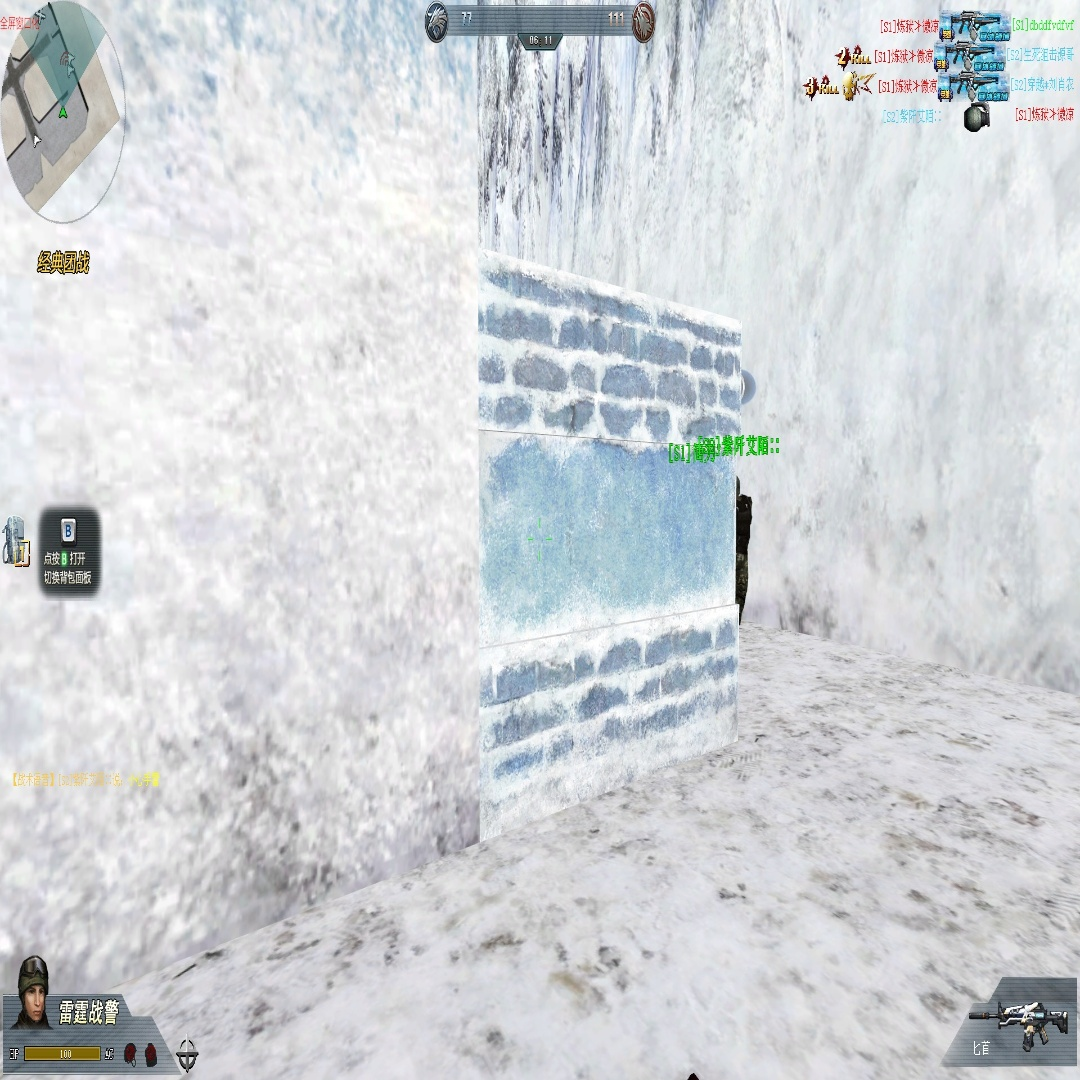ct: (735, 472, 753, 625)
head: (736, 471, 741, 499)
